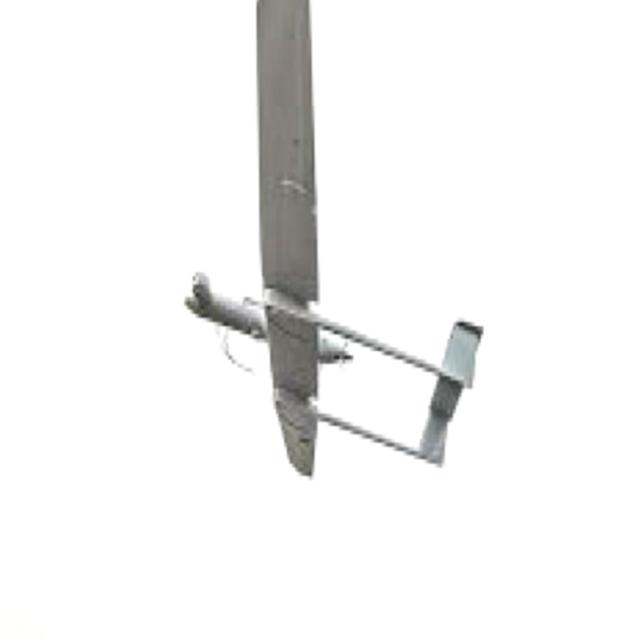plane: (184, 0, 487, 479)
